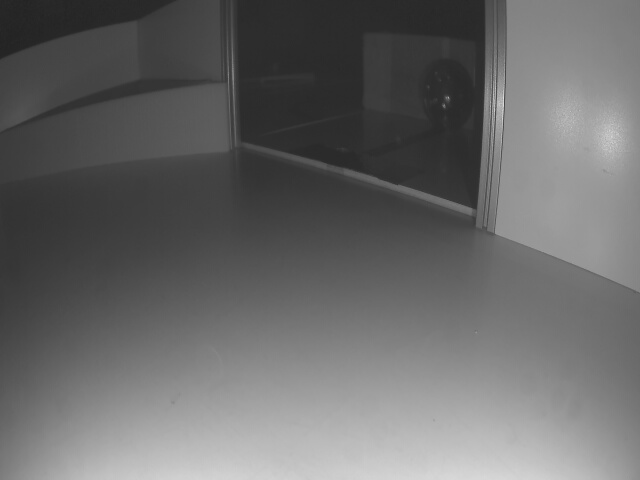Point: (0, 82, 230, 183)
